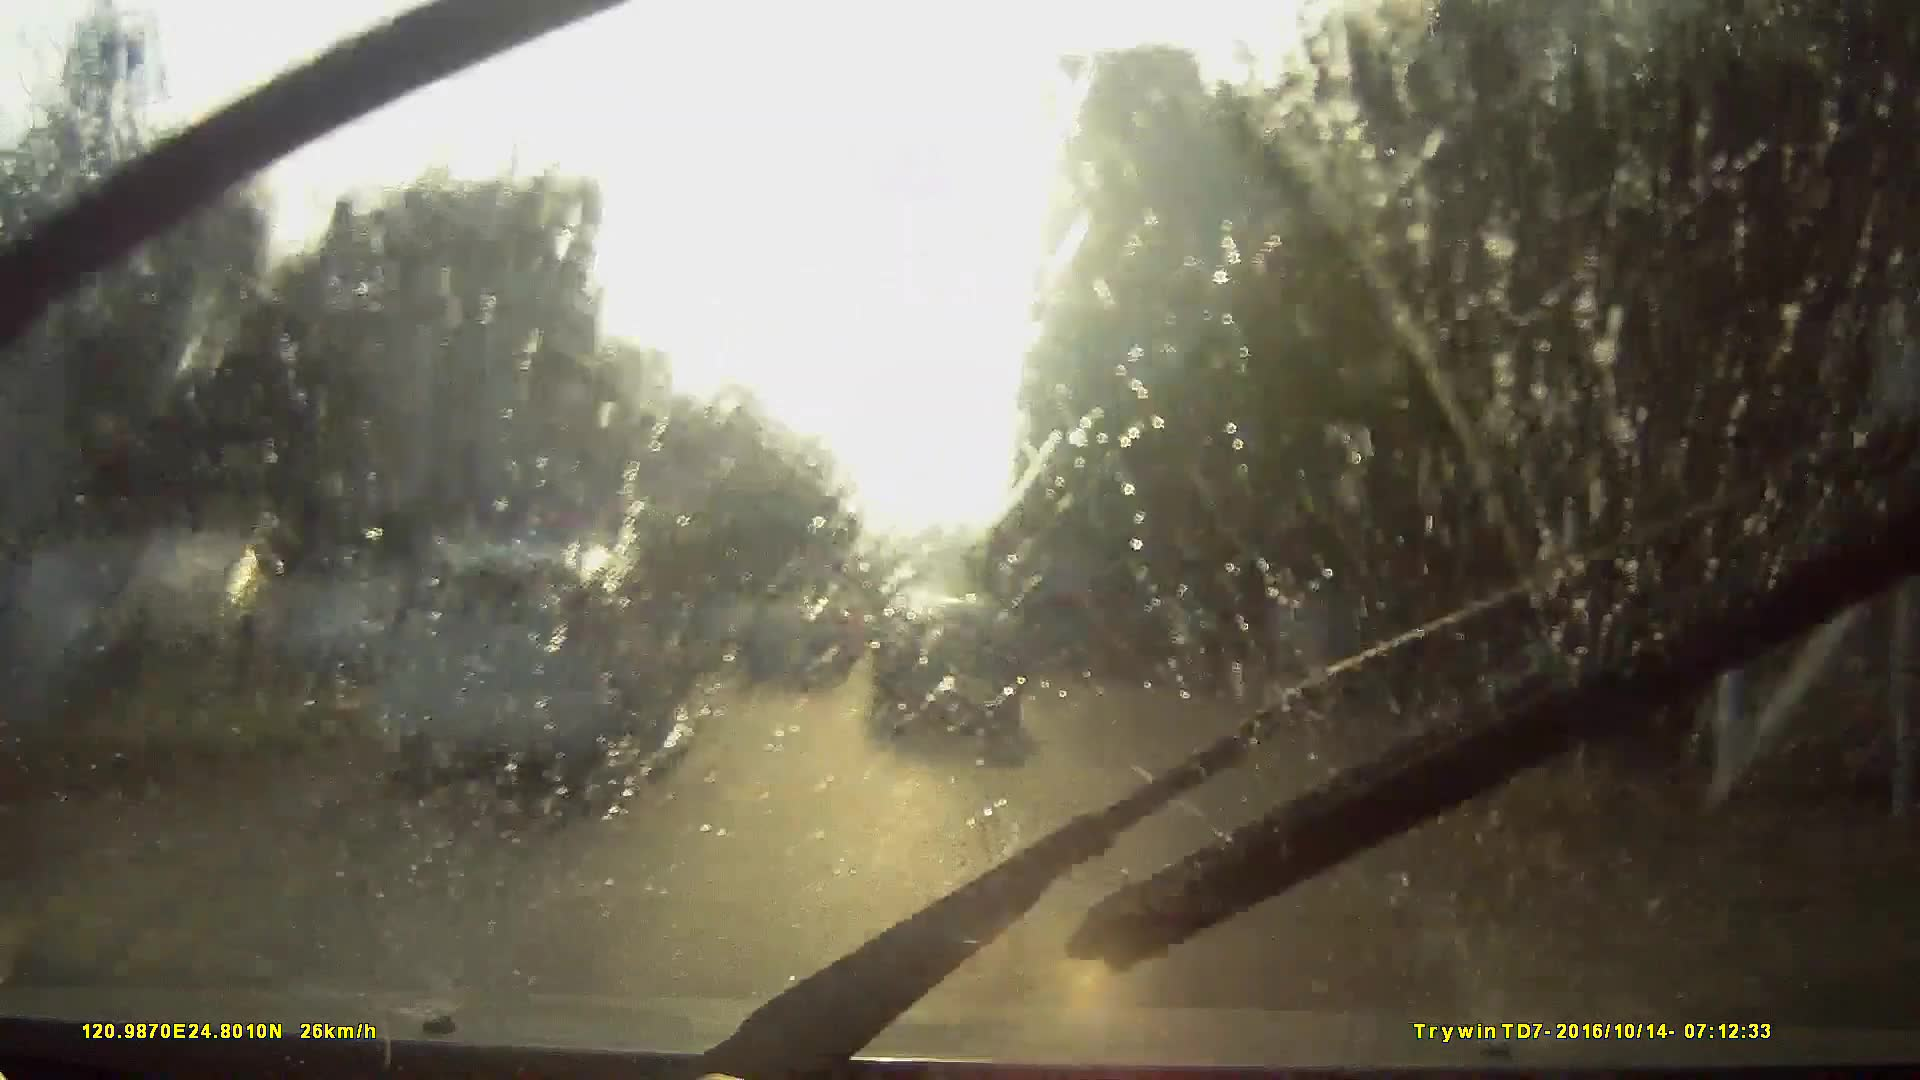vehicle: (251, 556, 684, 868), (382, 545, 698, 793), (480, 491, 720, 669), (866, 596, 1023, 757), (996, 556, 1101, 683), (736, 609, 845, 694), (866, 638, 915, 687)
